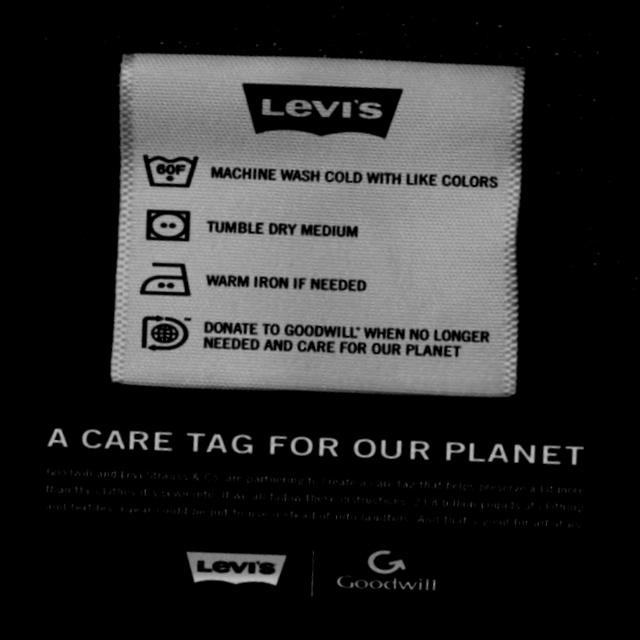30C: (127, 129, 215, 209)
iron_medium: (125, 241, 209, 317)
tumble_dry_medium: (129, 192, 207, 261)
